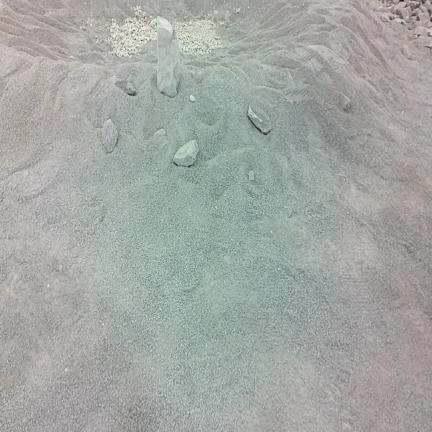Rock: (157, 17, 179, 97), (247, 106, 271, 134), (173, 140, 198, 166), (102, 119, 118, 152), (115, 80, 135, 95), (338, 92, 351, 113), (125, 82, 136, 96), (400, 8, 411, 21), (369, 0, 383, 10), (407, 0, 421, 10), (393, 3, 405, 14), (402, 46, 411, 59), (414, 27, 425, 37), (395, 18, 407, 25), (424, 0, 431, 12), (409, 22, 421, 29), (381, 12, 389, 22), (154, 129, 165, 136), (248, 170, 255, 181), (419, 5, 428, 13), (406, 16, 416, 23), (387, 5, 394, 13), (224, 11, 230, 20), (389, 14, 398, 20), (426, 29, 432, 37), (425, 43, 431, 50), (189, 95, 195, 102), (426, 22, 431, 29), (392, 0, 399, 4), (214, 10, 218, 15), (236, 8, 240, 13)
